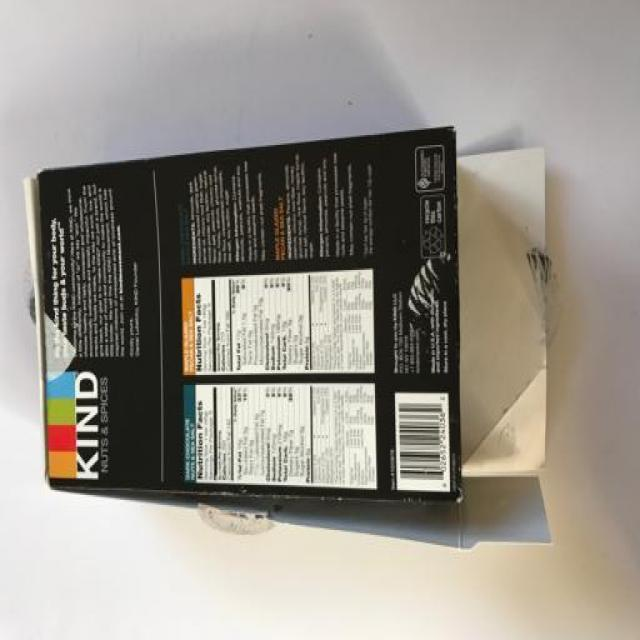paper: (23, 128, 593, 568)
